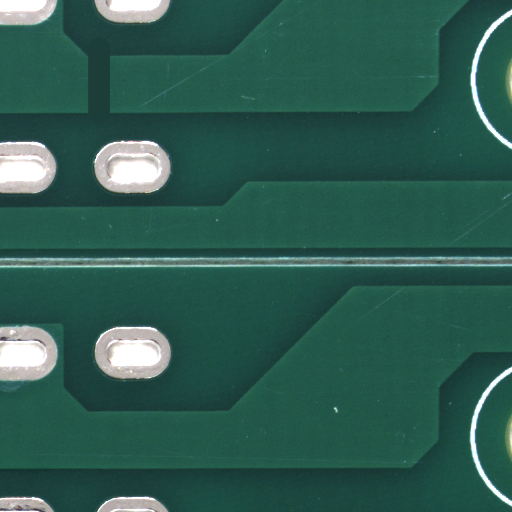Open_circuit: (100, 84, 128, 149)
